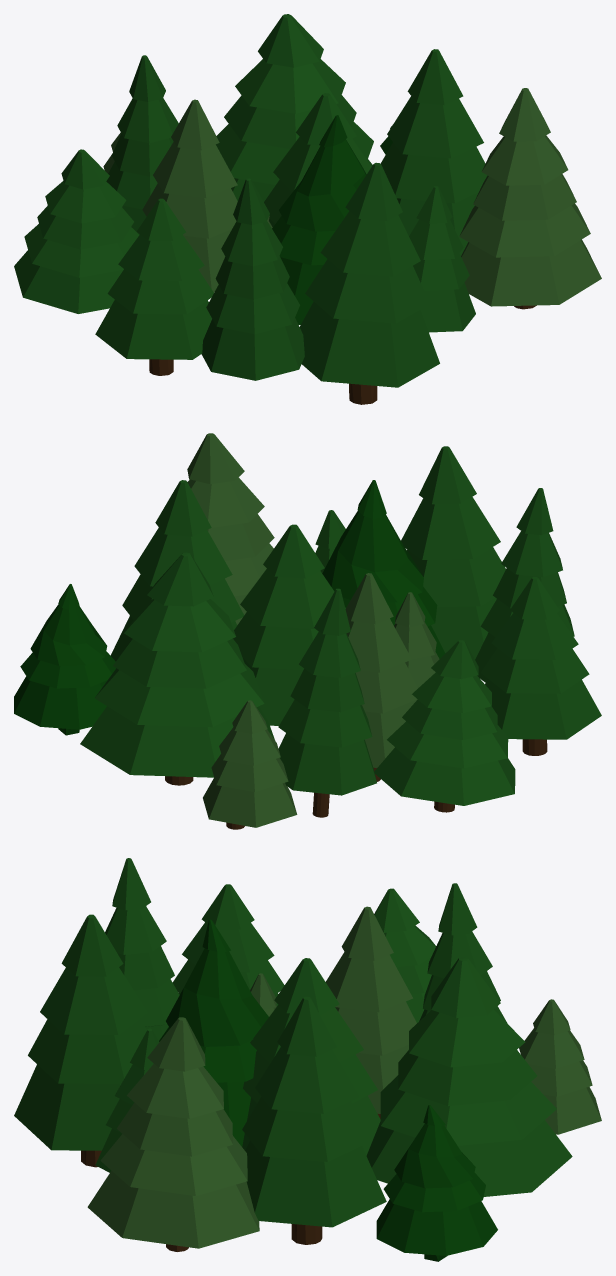
File: forest_medium3.fbx
3 views of the same model, one above another, from view 1: azimuth 30°, elevation 25°; view 2: azimuth 150°, elevation 25°; view 3: azimuth 270°, elevation 25° (orthographic). The views are drawn at different scales.
Parts seen in each view (by area): view 1: Circle.002; view 2: Circle.002; view 3: Circle.002.
Part boxes in pixels (bbox=[...]): Circle.002: bbox=[14, 14, 601, 404]; Circle.002: bbox=[14, 433, 601, 829]; Circle.002: bbox=[14, 858, 601, 1261].
Bounding box in the file's own units: 1830 × 880 × 1837.
